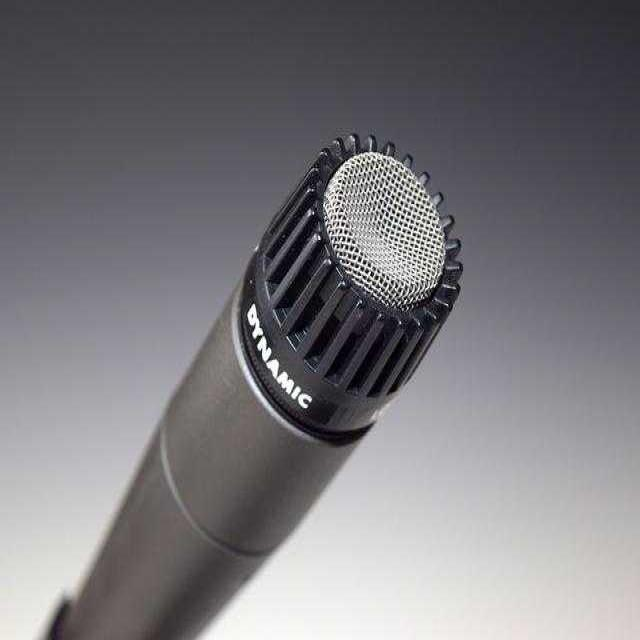microphone: (28, 131, 452, 636)
